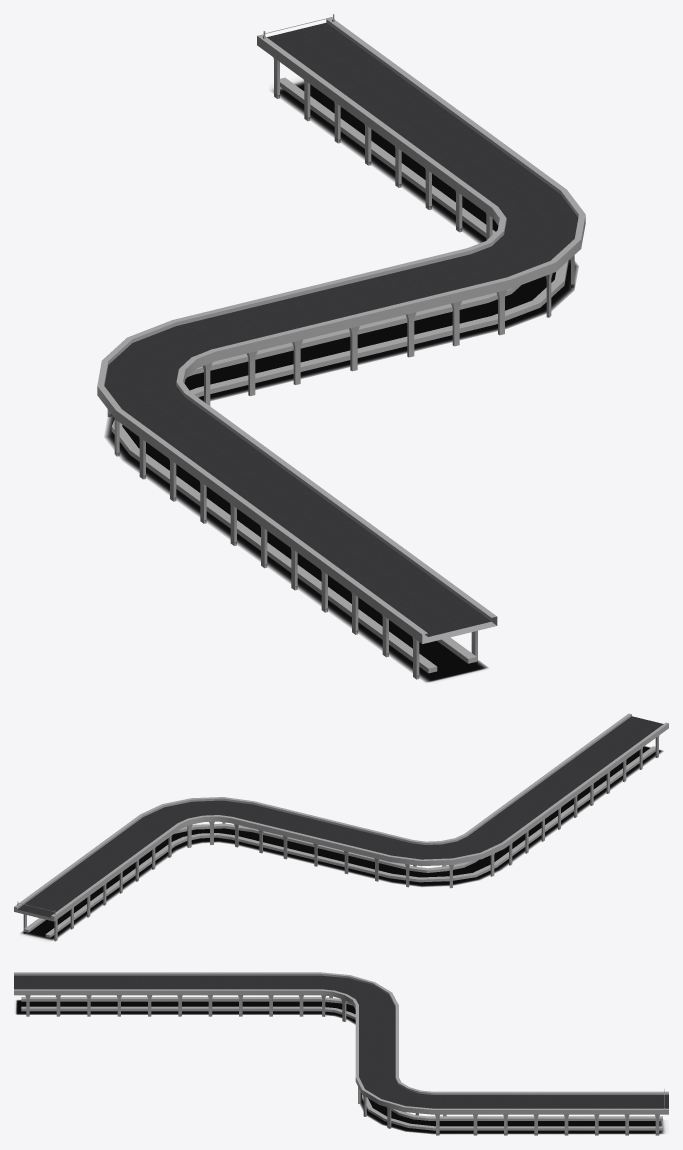
Rendered from rail_c.glb.
3 views of the same model, one above another, from view 1: azimuth 30°, elevation 25°; view 2: azimuth 150°, elevation 25°; view 3: azimuth 270°, elevation 25° (orthographic). The views are drawn at different scales.
Visible parts, largest first — view 1: rail_c, rail_c_shadow; view 2: rail_c, rail_c_shadow; view 3: rail_c, rail_c_shadow.
Boxes of the visible parts, x1,y1,x2,y2 form: rail_c: [97, 14, 585, 679]; rail_c_shadow: [104, 80, 578, 682]; rail_c: [14, 713, 668, 941]; rail_c_shadow: [21, 746, 663, 940]; rail_c: [14, 972, 668, 1135]; rail_c_shadow: [16, 1000, 664, 1133].
Bounding box in the file's own units: 12.49 × 1.32 × 25.11.
Materials: 3 (2 with a texture image).
